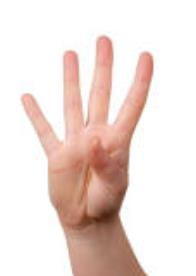right: (16, 34, 159, 225)
